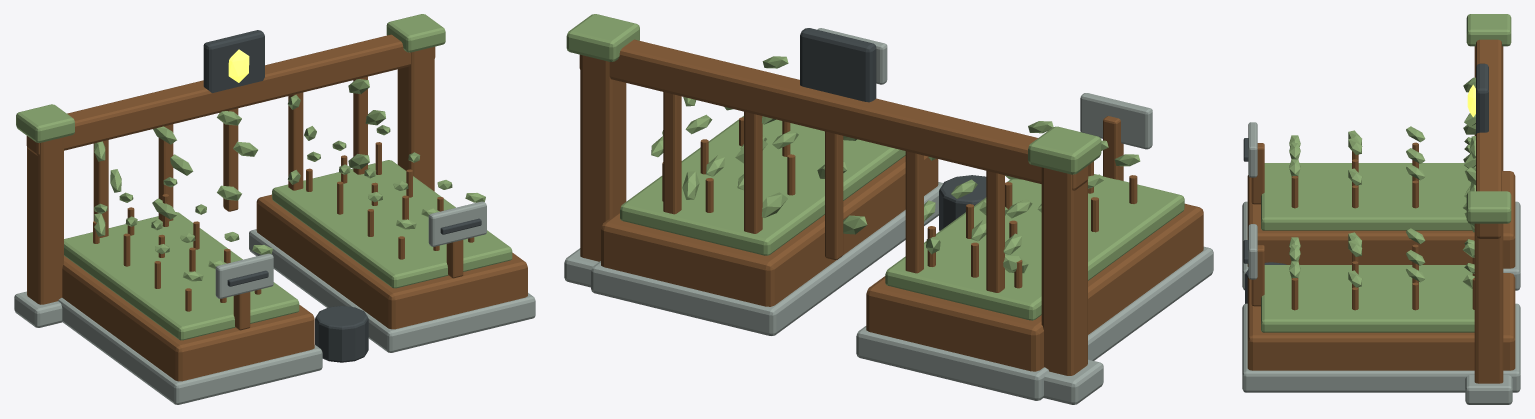
File: SM_EmbermereFenwatchHerbGarden_01.fbx
3 views of the same model, side by side, from view 1: azimuth 30°, elevation 25°; view 2: azimuth 150°, elevation 25°; view 3: azimuth 270°, elevation 25° (orthographic). The views are drawn at different scales.
Parts seen in each view (by area): view 1: SM_EmbermereFenwatchHerbGarden_01; view 2: SM_EmbermereFenwatchHerbGarden_01; view 3: SM_EmbermereFenwatchHerbGarden_01.
Part boxes in pixels (x1,y1,x2,y2): SM_EmbermereFenwatchHerbGarden_01: (14, 14, 535, 404); SM_EmbermereFenwatchHerbGarden_01: (564, 14, 1213, 404); SM_EmbermereFenwatchHerbGarden_01: (1242, 14, 1520, 404).
Size of what is drawn, in the model's own units: 356 by 212 by 195.
